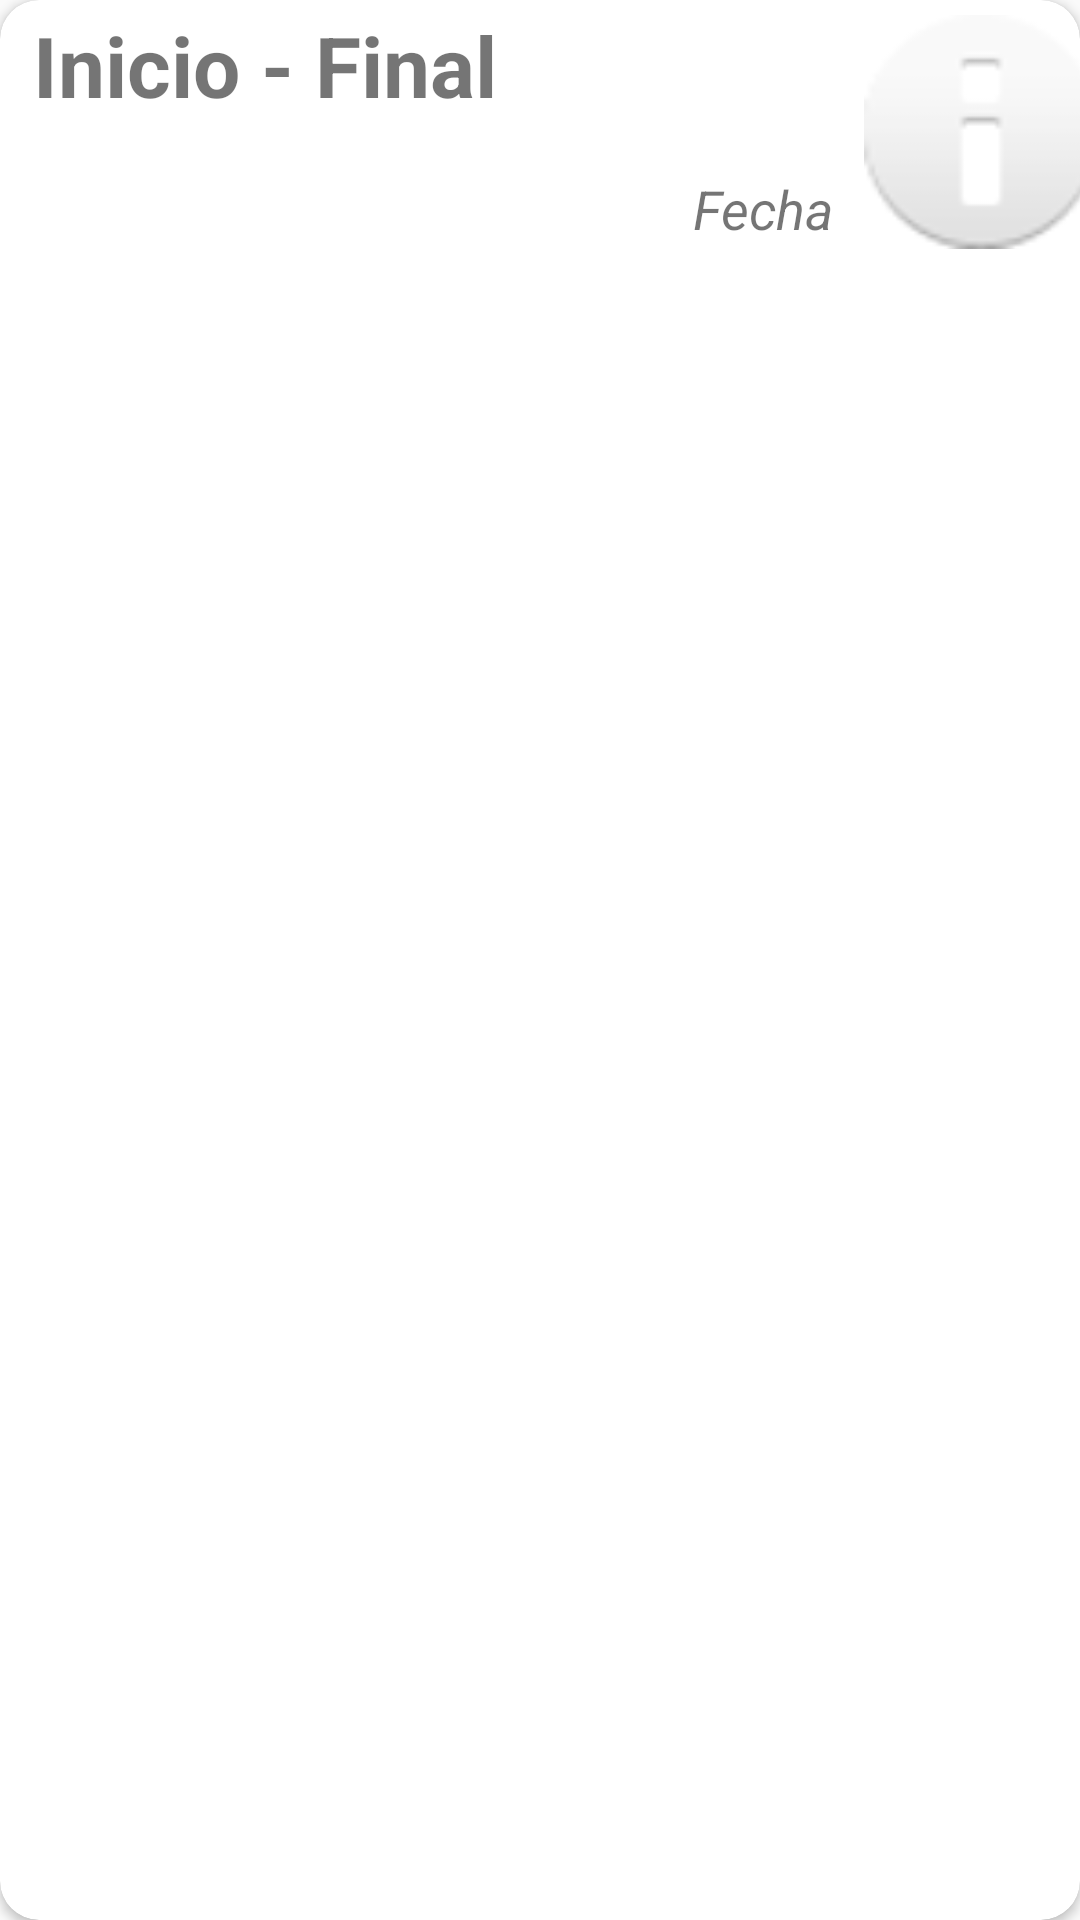

Where to tap for icons on this 1080px×1920px app screen, as point (x, y):
info: point (972, 124)
